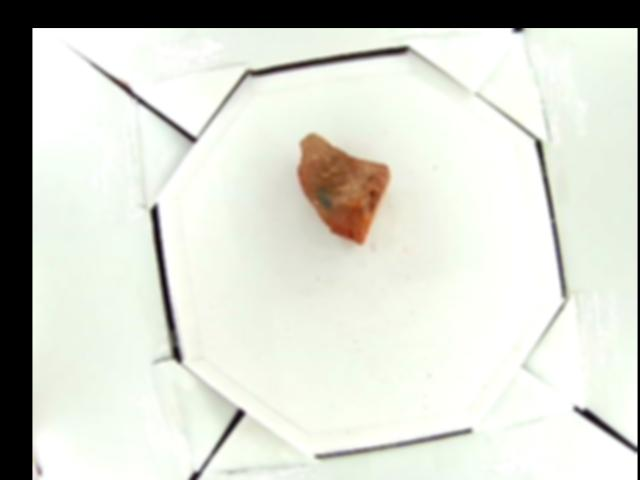Brisk: (298, 132, 389, 242)
